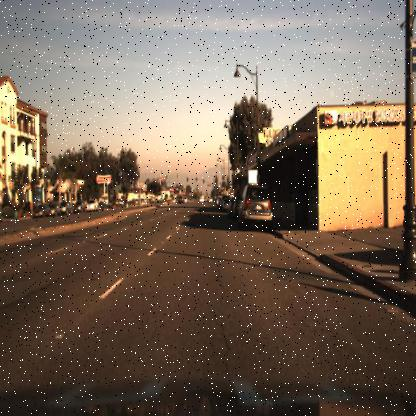car: (236, 181, 276, 230), (83, 196, 104, 218), (30, 199, 51, 220), (45, 200, 64, 219)
